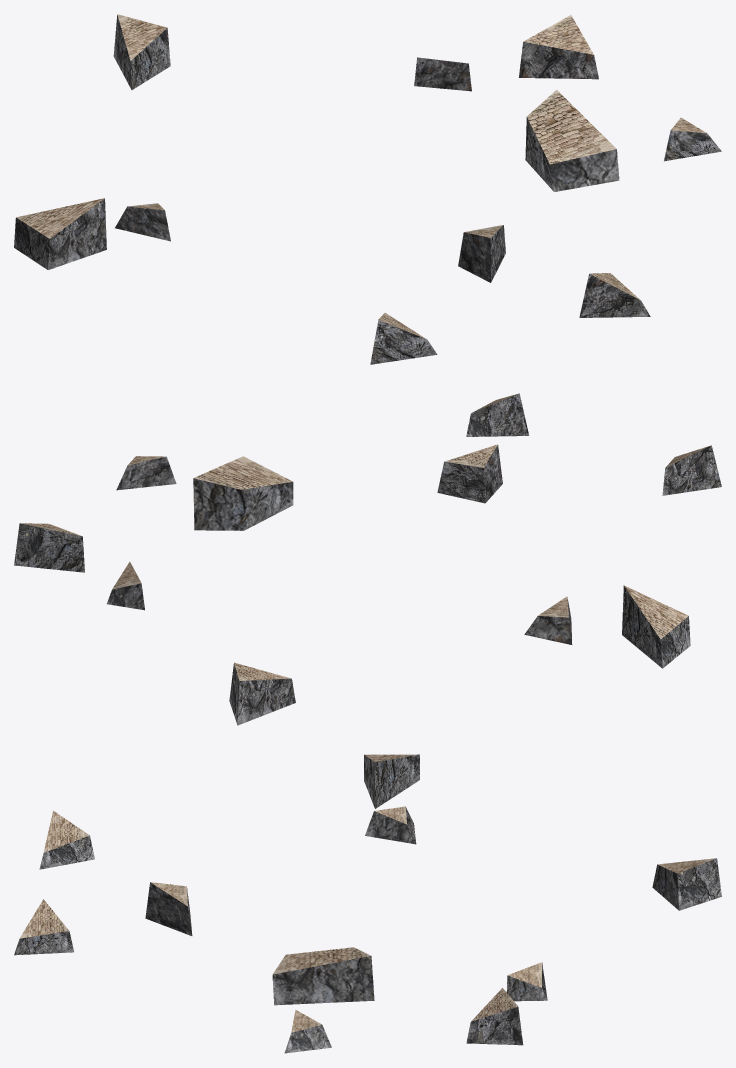
Rendered from suishi5.FBX.
3 renders of one model, top to bottom at view 1: azimuth 30°, elevation 25°; view 2: azimuth 150°, elevation 25°; view 3: azimuth 270°, elevation 25°, orthographic. The views are drawn at different scales.
Parts seen in each view (by area): view 1: shitou, polySurface64; view 2: shitou, polySurface64; view 3: shitou, polySurface64.
Boxes of the visible parts, x1,y1,x2,y2 form: shitou: (14,15,721,364); polySurface64: (16,14,706,338); shitou: (14,393,721,725); polySurface64: (21,394,710,680); shitou: (14,754,721,1053); polySurface64: (19,754,715,1032).
Bounding box in the file's own units: 1.91 × 0.1605 × 2.1.
